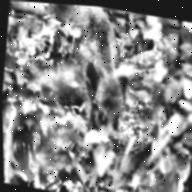boar: (23, 2, 146, 142)
